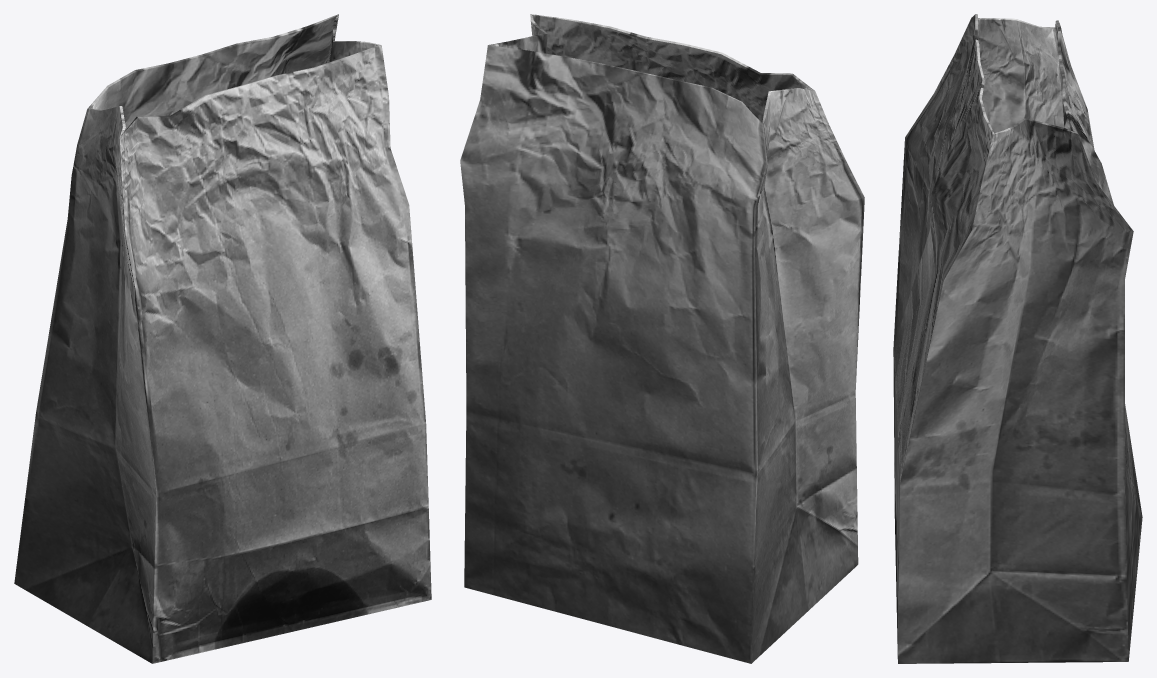
The model's file is fast_food_bag_2.fbx.
The picture shows the model from 3 angles, left to right: view 1: azimuth 30°, elevation 25°; view 2: azimuth 150°, elevation 25°; view 3: azimuth 270°, elevation 25°; orthographic projection.
Visible parts, largest first — view 1: fast_food_bag_2; view 2: fast_food_bag_2; view 3: fast_food_bag_2.
Boxes of the visible parts, x1,y1,x2,y2 form: fast_food_bag_2: [14, 14, 431, 663]; fast_food_bag_2: [460, 14, 864, 663]; fast_food_bag_2: [893, 14, 1142, 663].
Bounding box in the file's own units: 27.91 × 47.07 × 20.03.
